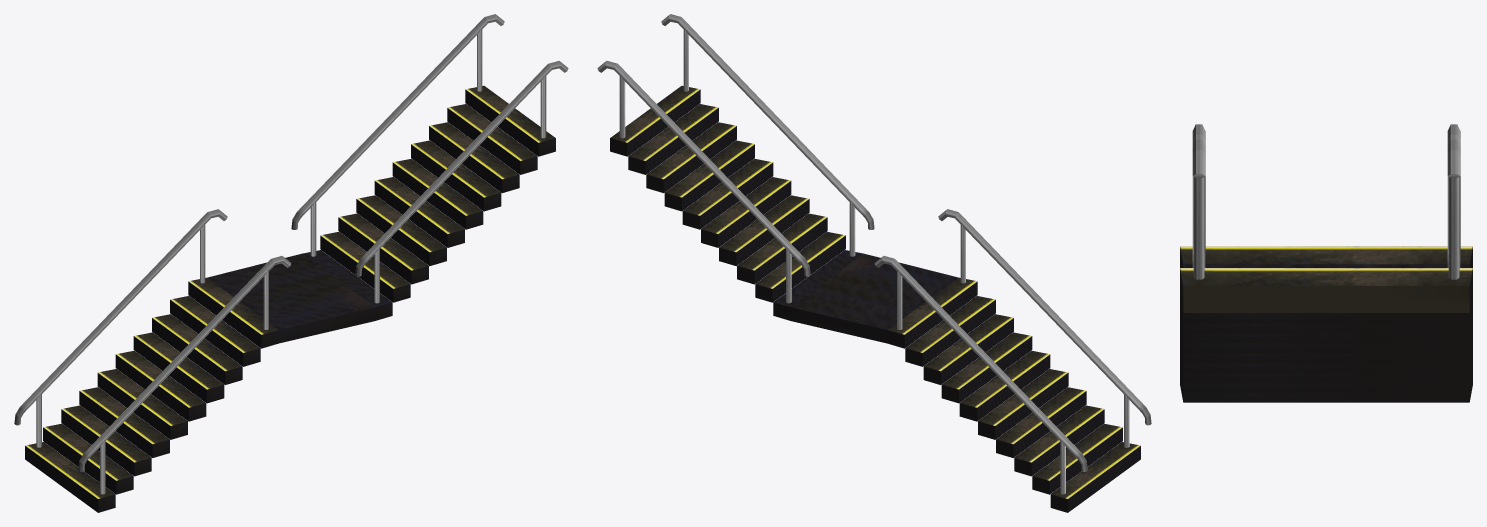
File: escalera2.fbx
The picture shows the model from 3 angles, left to right: view 1: azimuth 30°, elevation 25°; view 2: azimuth 150°, elevation 25°; view 3: azimuth 270°, elevation 25°; orthographic projection. The views are drawn at different scales.
Parts seen in each view (by area): view 1: Cylinder.024; view 2: Cylinder.024; view 3: Cylinder.024.
Part boxes in pixels (bbox=[...]): Cylinder.024: bbox=[14, 14, 568, 512]; Cylinder.024: bbox=[597, 14, 1151, 512]; Cylinder.024: bbox=[1180, 124, 1472, 402].
Bounding box in the file's own units: 658 × 430 × 171.
